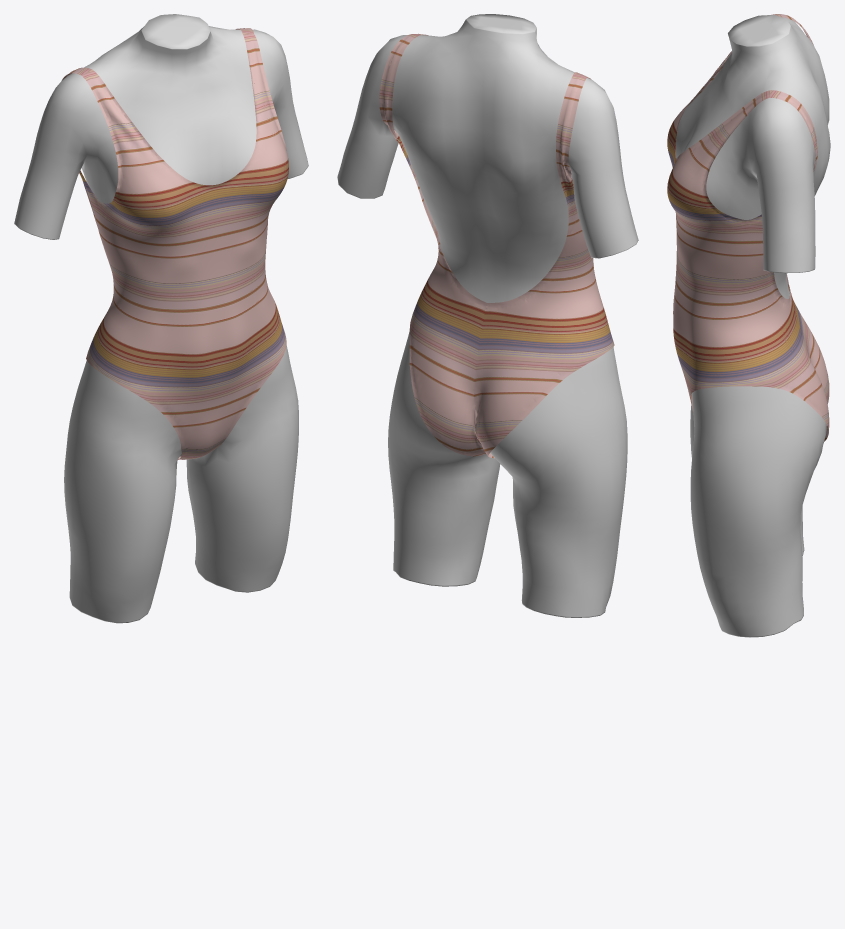
Rendered from Swimsuit_E.gltf.
3 renders of one model, left to right at view 1: azimuth 30°, elevation 25°; view 2: azimuth 150°, elevation 25°; view 3: azimuth 270°, elevation 25°, orthographic.
Parts seen in each view (by area): view 1: AvatarMujer_quads, Swimsuit_E_01_Lowpoly.001; view 2: AvatarMujer_quads, Swimsuit_E_01_Lowpoly.001; view 3: AvatarMujer_quads, Swimsuit_E_01_Lowpoly.001.
Part boxes in pixels (<box>): AvatarMujer_quads: <box>14,14,308,623</box>; Swimsuit_E_01_Lowpoly.001: <box>61,28,288,460</box>; AvatarMujer_quads: <box>337,14,638,617</box>; Swimsuit_E_01_Lowpoly.001: <box>379,33,614,458</box>; AvatarMujer_quads: <box>675,14,830,637</box>; Swimsuit_E_01_Lowpoly.001: <box>667,14,829,441</box>.
Bounding box in the file's own units: 0.521 × 1.53 × 0.2553.
2 materials, 1 textured.
